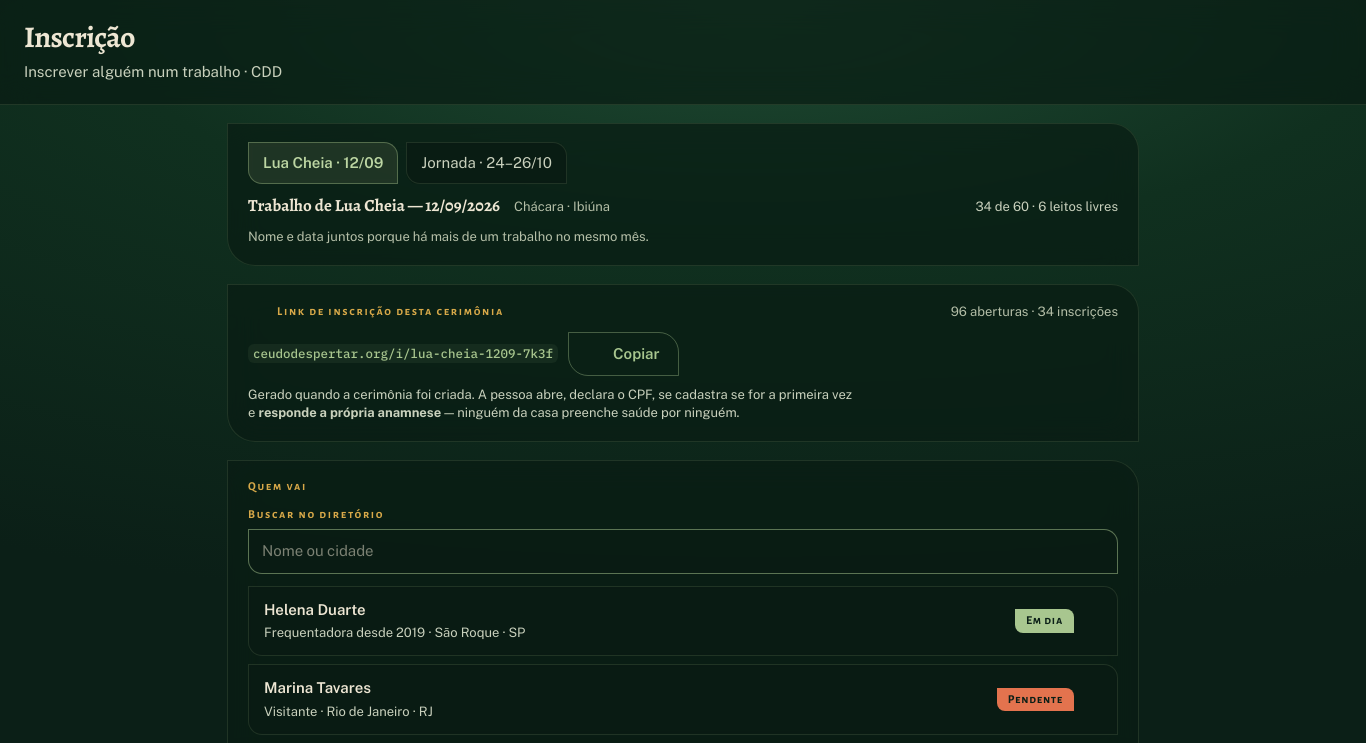
Test: InscricaoPage: abertura e escolha do evento › trocar para a Jornada — troca nome, data e ocupação e marca o botão escolhido
Click the button "Jornada · 24–26/10" at (487, 163), box 406,142 -> 567,184
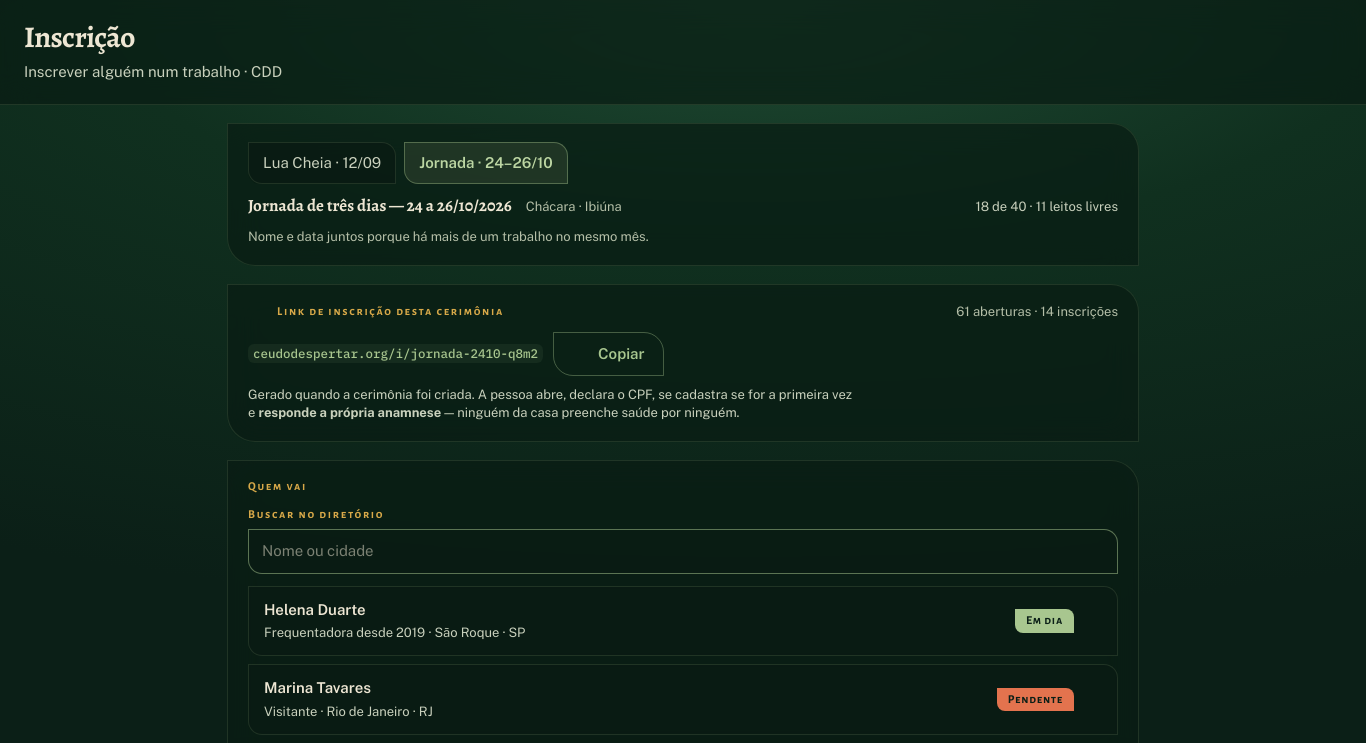
Check: the text "18 de 40 · 11 leitos livres" is shown, box 975,198 -> 1118,217
Check: the text "Jornada de três dias — 24 a 26/10/2026" is shown, box 248,195 -> 512,216
